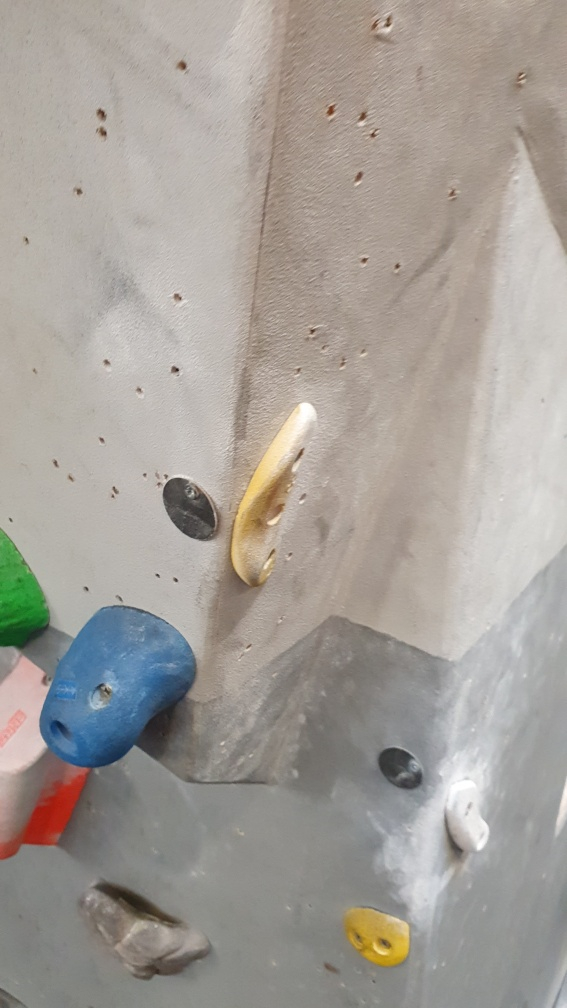Hand Start: (161, 475, 221, 544), (377, 743, 427, 790)
Jug: (73, 877, 221, 990)
Pinch: (1, 647, 93, 860)
